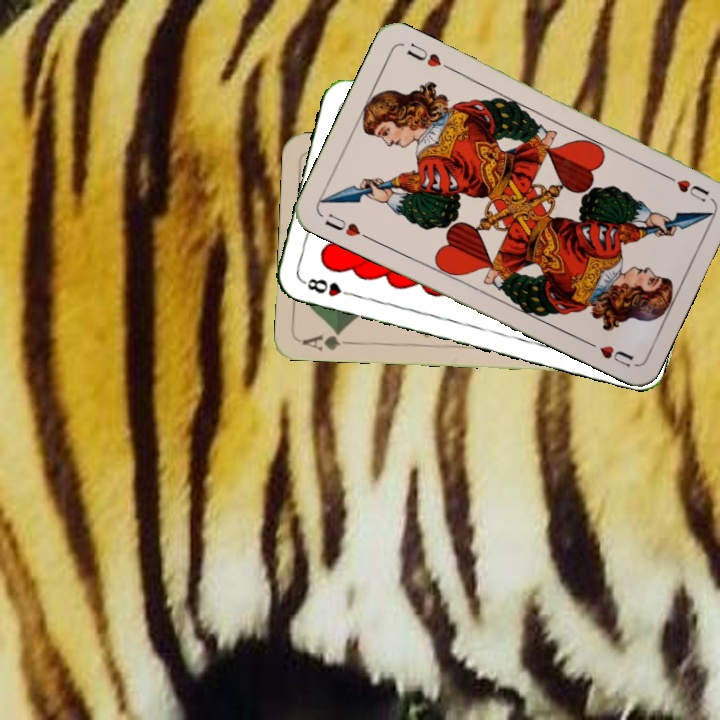GA: (298, 326, 358, 353)
H8: (299, 274, 357, 299)
HU: (658, 169, 712, 205), (320, 209, 373, 242)
